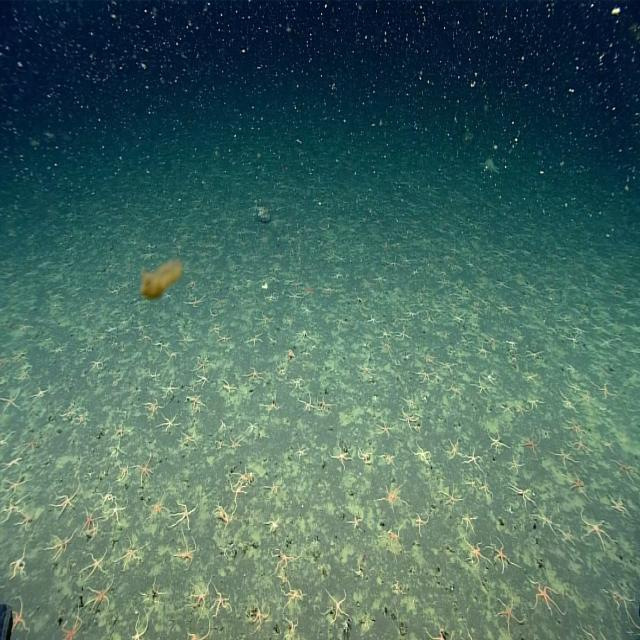brittle-stars: (528, 573, 562, 618), (579, 512, 609, 550), (321, 590, 352, 622), (169, 498, 196, 534), (116, 536, 146, 568), (497, 595, 521, 635), (270, 544, 298, 578), (491, 537, 516, 575), (173, 536, 198, 569), (10, 595, 30, 635), (380, 481, 408, 508), (86, 584, 112, 612), (328, 439, 353, 468), (438, 482, 461, 513), (190, 582, 212, 614), (280, 582, 305, 610), (509, 480, 534, 508), (464, 540, 488, 568), (519, 428, 541, 458), (463, 442, 484, 473), (59, 615, 85, 640), (53, 491, 77, 518), (535, 508, 557, 537), (0, 497, 21, 527), (213, 588, 233, 619), (134, 454, 153, 486), (48, 533, 72, 558), (228, 482, 248, 512), (248, 600, 270, 627), (86, 550, 107, 578), (128, 613, 149, 640), (12, 548, 28, 581), (3, 474, 27, 496), (554, 444, 576, 468), (145, 497, 166, 522), (595, 376, 614, 403), (185, 392, 206, 416), (410, 443, 430, 468), (387, 525, 403, 556), (220, 379, 239, 405), (444, 436, 462, 463), (608, 494, 629, 517), (564, 416, 586, 437), (242, 330, 265, 350), (192, 352, 211, 376), (573, 437, 592, 460), (255, 310, 277, 329), (108, 503, 126, 526), (570, 473, 587, 497), (401, 408, 418, 432), (316, 394, 332, 419), (376, 419, 395, 440), (559, 526, 577, 548), (282, 615, 299, 638), (20, 510, 35, 536), (414, 508, 429, 534), (22, 433, 38, 457), (459, 515, 477, 536), (82, 503, 95, 532), (488, 428, 503, 453), (300, 392, 316, 415), (472, 378, 490, 398), (348, 512, 366, 532), (244, 366, 264, 384), (160, 414, 180, 432), (162, 378, 178, 400), (97, 487, 116, 505), (480, 481, 494, 505), (528, 395, 544, 416), (112, 423, 130, 441), (357, 444, 373, 464), (144, 398, 160, 418), (264, 479, 282, 496), (355, 360, 374, 376), (147, 364, 162, 384), (447, 382, 462, 402), (416, 368, 434, 384), (182, 431, 198, 449), (32, 385, 48, 402), (515, 400, 528, 420), (289, 375, 305, 391), (118, 462, 129, 484), (196, 372, 211, 388), (229, 436, 241, 456), (90, 356, 104, 373), (509, 456, 522, 474), (180, 331, 193, 348), (380, 341, 394, 356), (89, 522, 99, 542), (468, 477, 478, 494)
